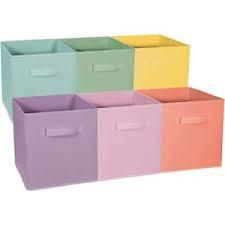cube: (13, 95, 99, 185), (84, 92, 160, 179), (149, 87, 225, 171), (4, 38, 74, 94), (120, 34, 193, 87), (70, 37, 135, 91)
